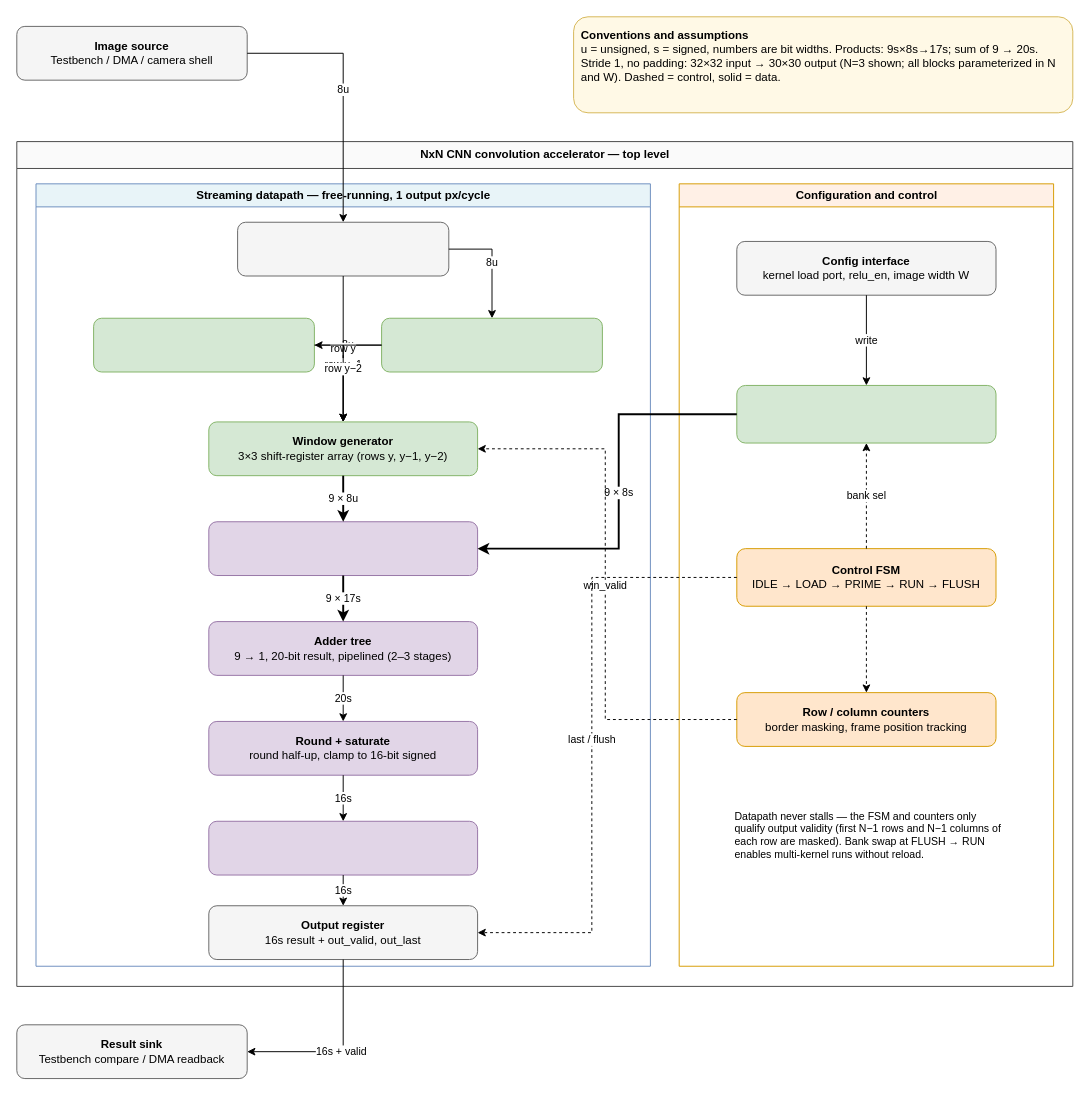
This 1090x1095 diagram has some shape labels left out. Each missing label, with the centre of its shape:
"Kernel register file 4 banks × 9 × 8-bit signed coefficients" goes at point 866,413.
"Line buffer — row y−1 SRL shift register, 32 × 8u, no BRAM" goes at point 491,344.
"Line buffer — row y−2 SRL shift register, 32 × 8u, no BRAM" goes at point 203,344.
"MAC array 9 × LUT multipliers, 9s × 8s → 17s, 0 DSP" goes at point 343,548.
"Pixel input register 8-bit unsigned, 1 px/cycle" goes at point 343,248.
"ReLU stage bypass mux, relu_en" goes at point 343,847.
